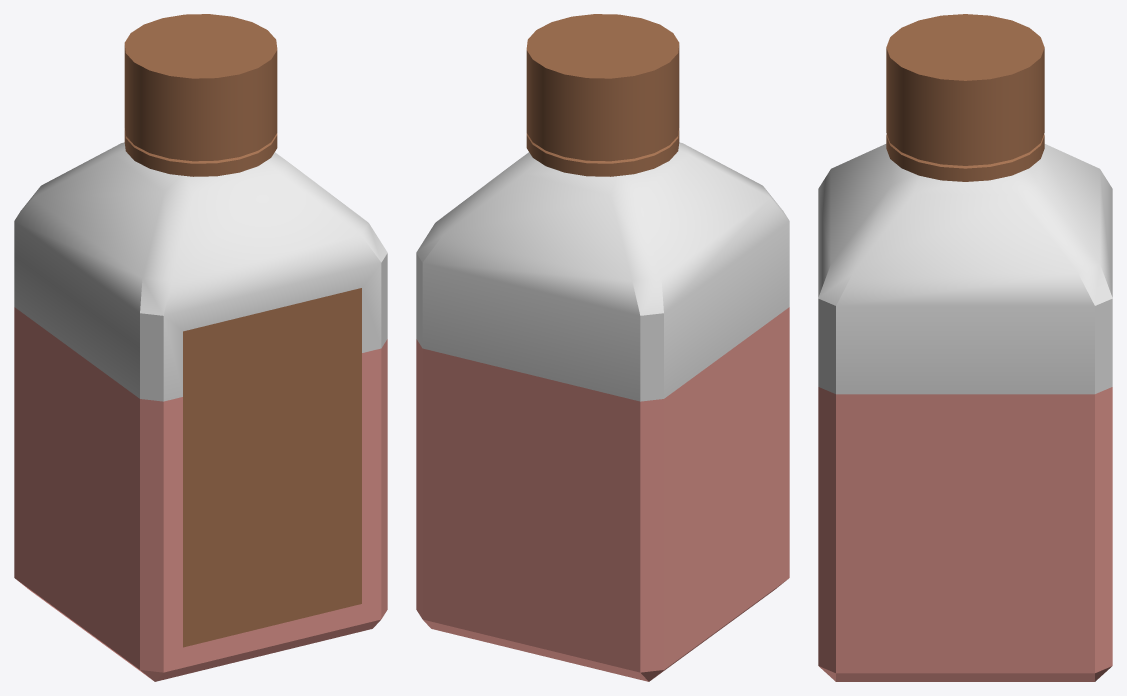
Rendered from jarSquared.fbx.
3 views of the same model, side by side, from view 1: azimuth 30°, elevation 25°; view 2: azimuth 150°, elevation 25°; view 3: azimuth 270°, elevation 25° (orthographic). The views are drawn at different scales.
Parts seen in each view (by area): view 1: Jar Squared; view 2: Jar Squared; view 3: Jar Squared.
Part boxes in pixels (left/top/right/bottom): Jar Squared: left=14, top=14, right=387, bottom=681; Jar Squared: left=416, top=14, right=789, bottom=681; Jar Squared: left=818, top=14, right=1112, bottom=681.
Bounding box in the file's own units: 6.94 × 6.94 × 15.07.
